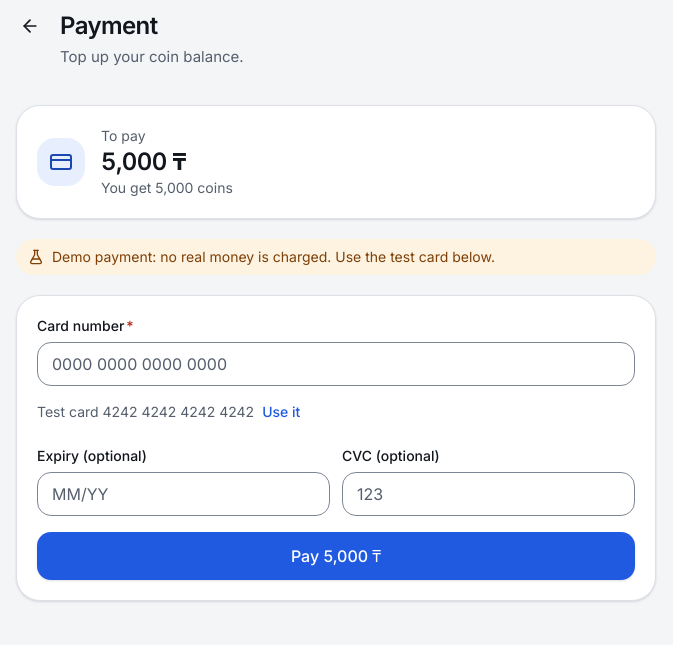
Scenario: CheckoutView (demo provider) › shows the amount, the test-card hint, and pays with it
Later steps or results of the test are not shown.
Expected: the text with test id "checkout-amount" reads "5,000 ₸", 101,146 -> 186,176
Expected: the element with test id "test-card-hint" shows "Test card 4242 4242 4242 4242", 37,402 -> 254,420
Click the button "Pay 5,000 ₸": x=336, y=556 37,532 -> 635,580
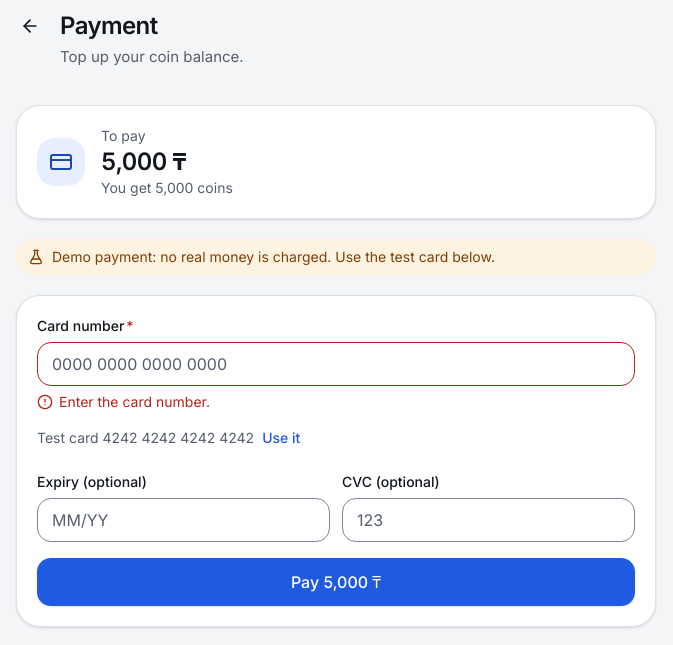
Expected: the text "Enter the card number." is shown, 59,392 -> 210,412
Click the button "Use it": x=281, y=438 262,420 -> 300,456
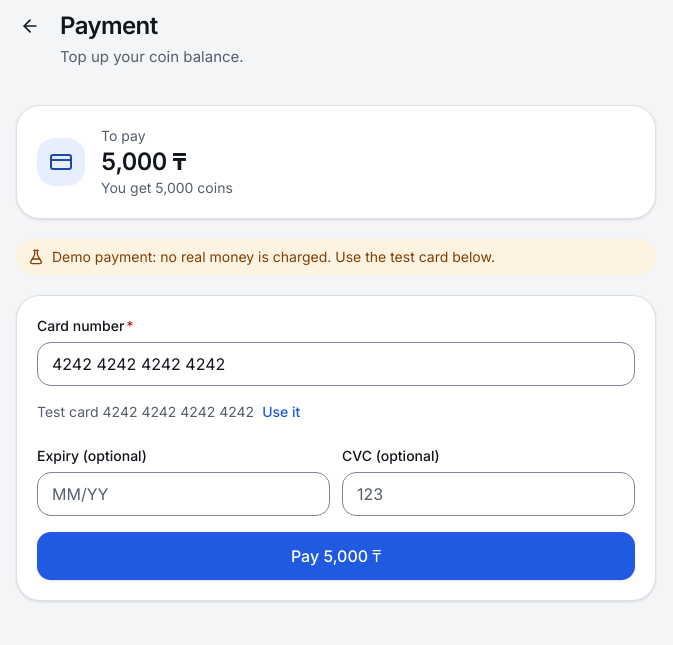
Expected: the field with test id "card-number" holds "4242 4242 4242 4242", 37,342 -> 635,386
